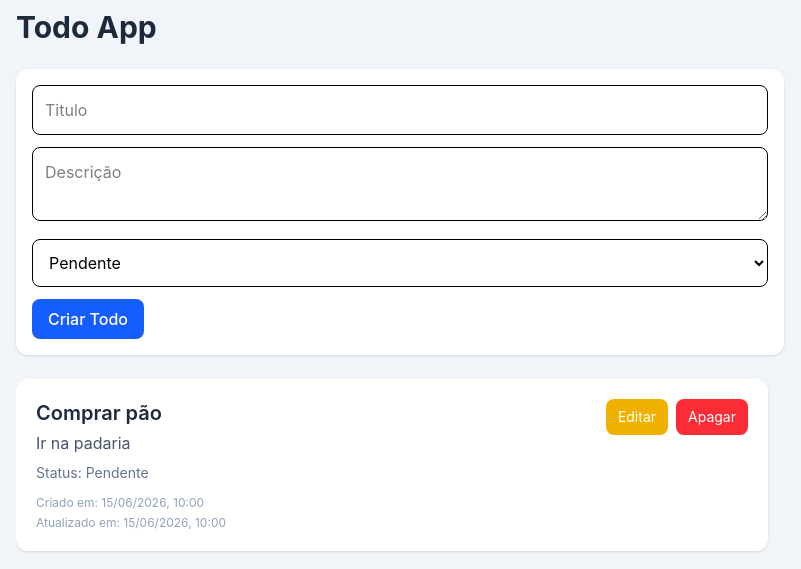
Test: Home › cancels editing
The image size is (801, 569).
Expected: the heading "Comprar pão" is shown, 36,401 -> 162,425
Click the button "Editar". click: (637, 417)
box: 606,399 -> 668,435
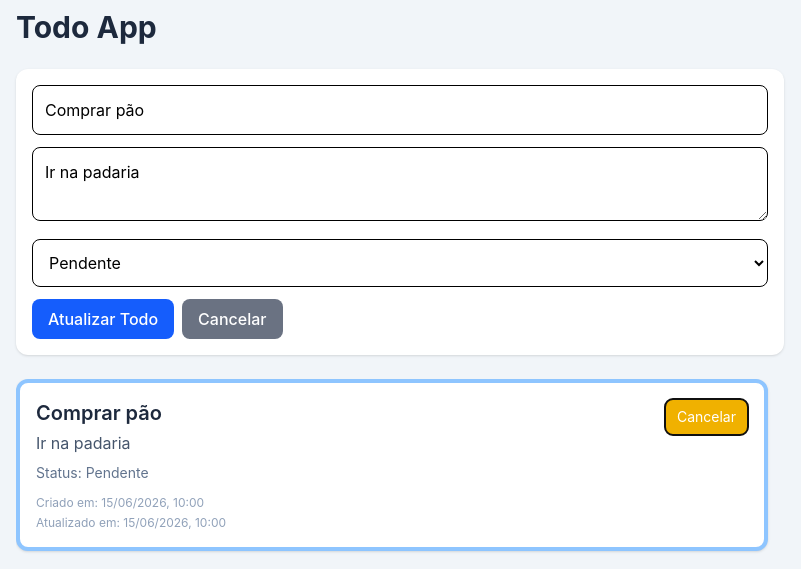
Click the 1st button "Cancelar". click: (232, 319)
box: 182,299 -> 282,339
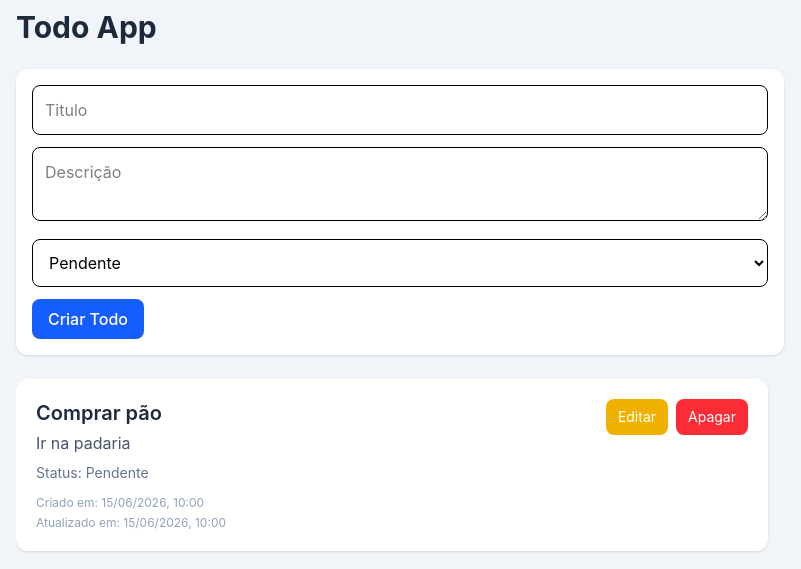
Now the button "Criar Todo" is shown, box 32,299 -> 144,339
